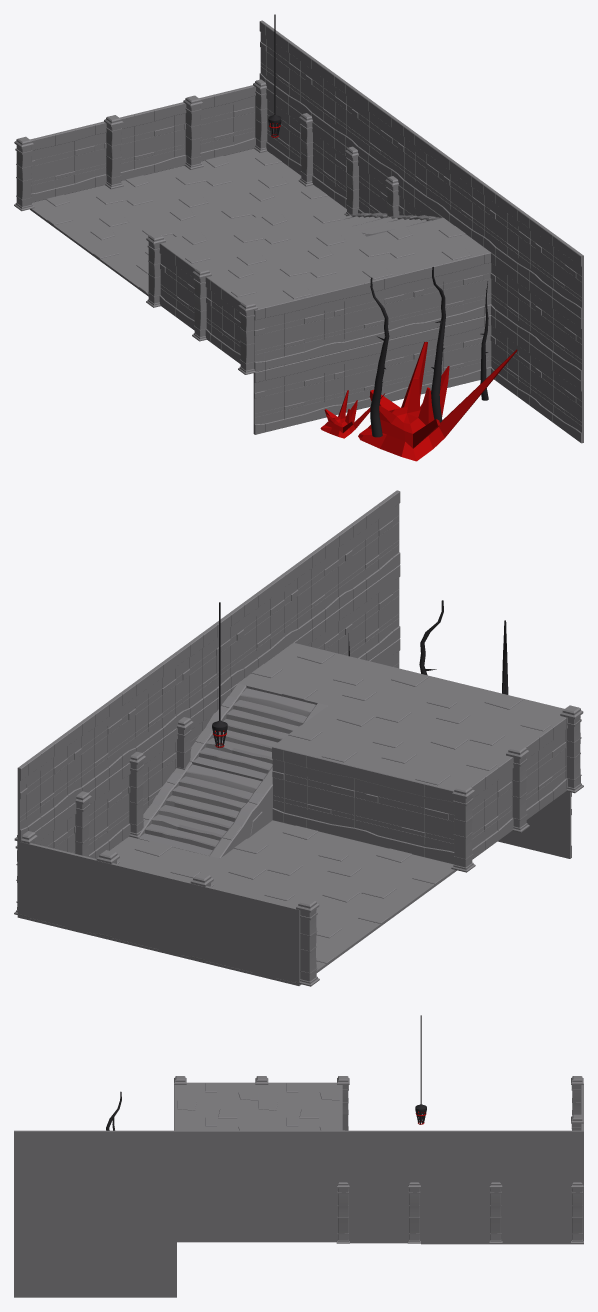
Rendered from Test_Level2.fbx.
3 views of the same model, one above another, from view 1: azimuth 30°, elevation 25°; view 2: azimuth 150°, elevation 25°; view 3: azimuth 270°, elevation 25° (orthographic). The views are drawn at different scales.
Visible parts, largest first — view 1: pCone8; view 2: pCone8; view 3: pCone8.
Boxes of the visible parts, x1,y1,x2,y2 form: pCone8: [14, 14, 583, 461]; pCone8: [14, 490, 583, 986]; pCone8: [14, 1015, 583, 1297].
Bounding box in the file's own units: 1266 × 1438 × 2800.
